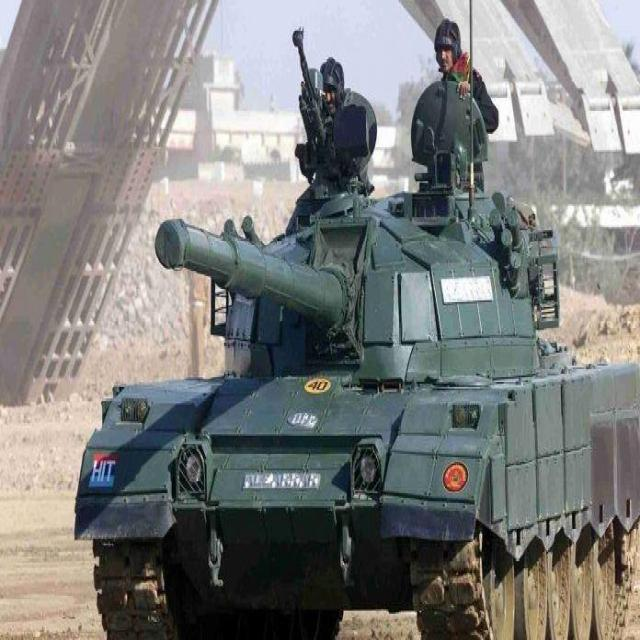Tanks: (52, 174, 626, 619)
